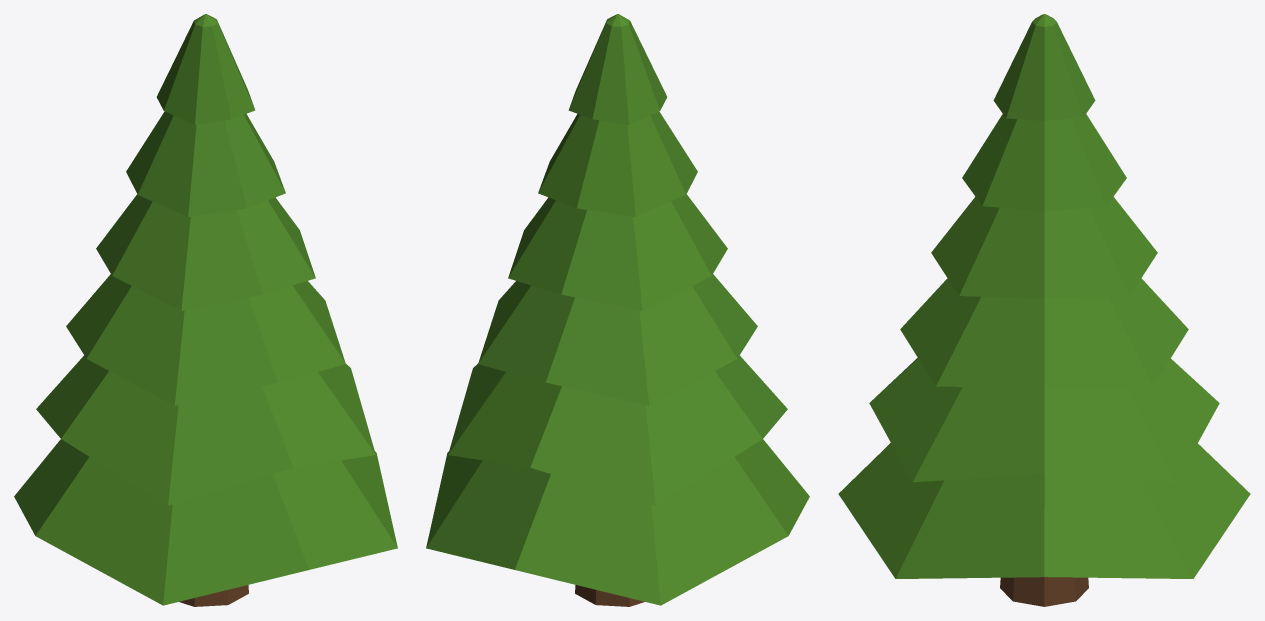
The model's file is tree1.fbx.
The picture shows the model from 3 angles, left to right: view 1: azimuth 30°, elevation 25°; view 2: azimuth 150°, elevation 25°; view 3: azimuth 270°, elevation 25°; orthographic projection.
Parts seen in each view (by area): view 1: Norm_PineTree; view 2: Norm_PineTree; view 3: Norm_PineTree.
Boxes of the visible parts, <box> form: Norm_PineTree: <box>14,14,397,606</box>; Norm_PineTree: <box>426,14,809,606</box>; Norm_PineTree: <box>838,14,1250,606</box>.
Size of the model in its own units: 475 by 763 by 497.
